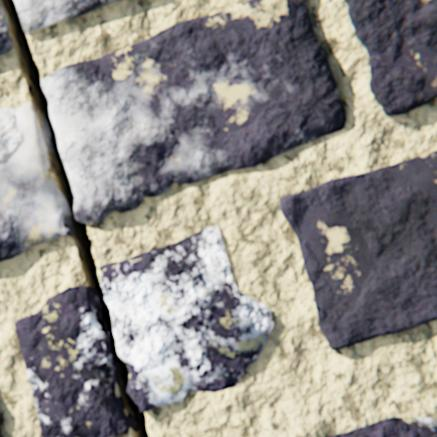brick: (278, 150, 436, 349), (343, 0, 436, 116), (0, 423, 3, 436)
broken_brick: (42, 0, 345, 222), (98, 226, 272, 411), (15, 286, 129, 436), (0, 103, 71, 261), (14, 0, 122, 35), (321, 417, 436, 436), (0, 3, 14, 56)
crack: (1, 0, 148, 436), (371, 0, 388, 29)
